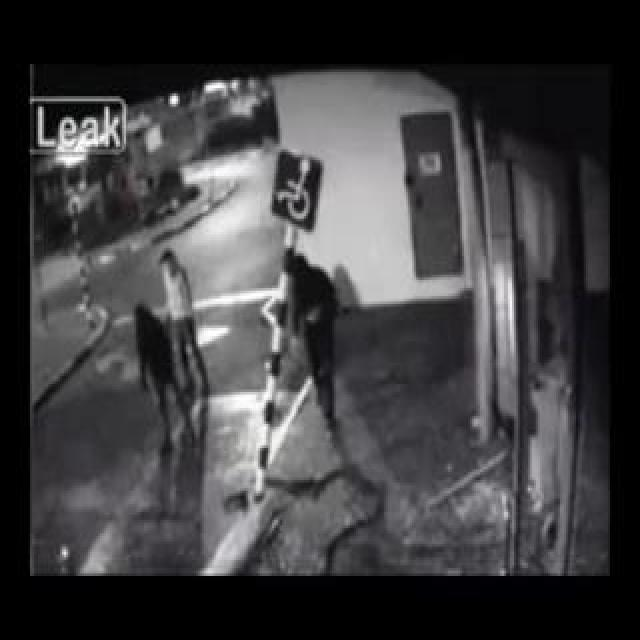thief: (127, 248, 207, 382), (267, 239, 340, 336)
